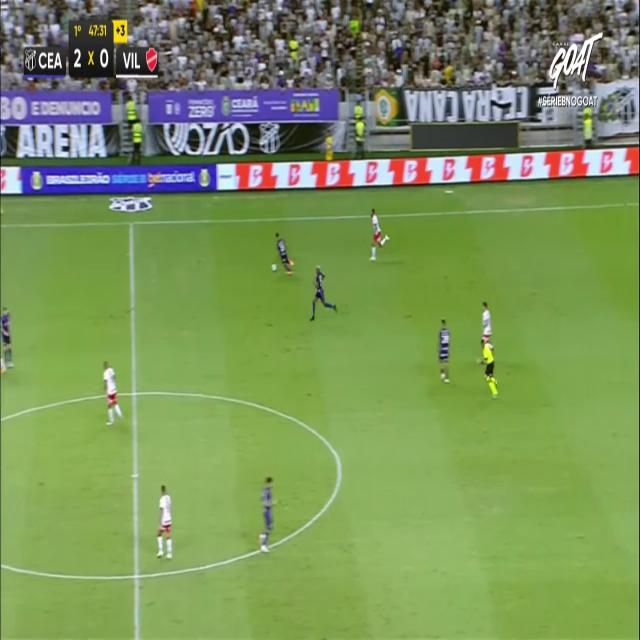ball: (270, 263, 278, 279)
player: (309, 264, 337, 321), (102, 359, 123, 425), (258, 475, 276, 552), (156, 484, 172, 559), (368, 207, 389, 261), (479, 300, 496, 360), (0, 306, 14, 372), (274, 231, 294, 275), (438, 318, 450, 382)
referee: (478, 338, 498, 398)
